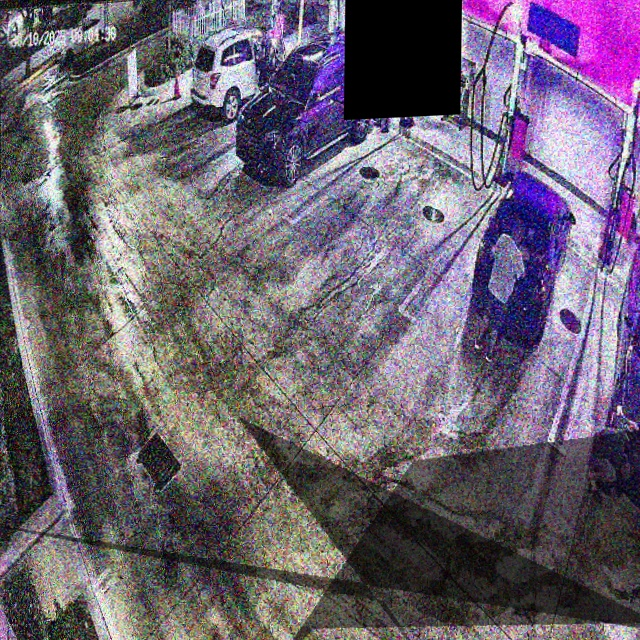Car: (238, 30, 378, 187), (468, 164, 577, 343)
